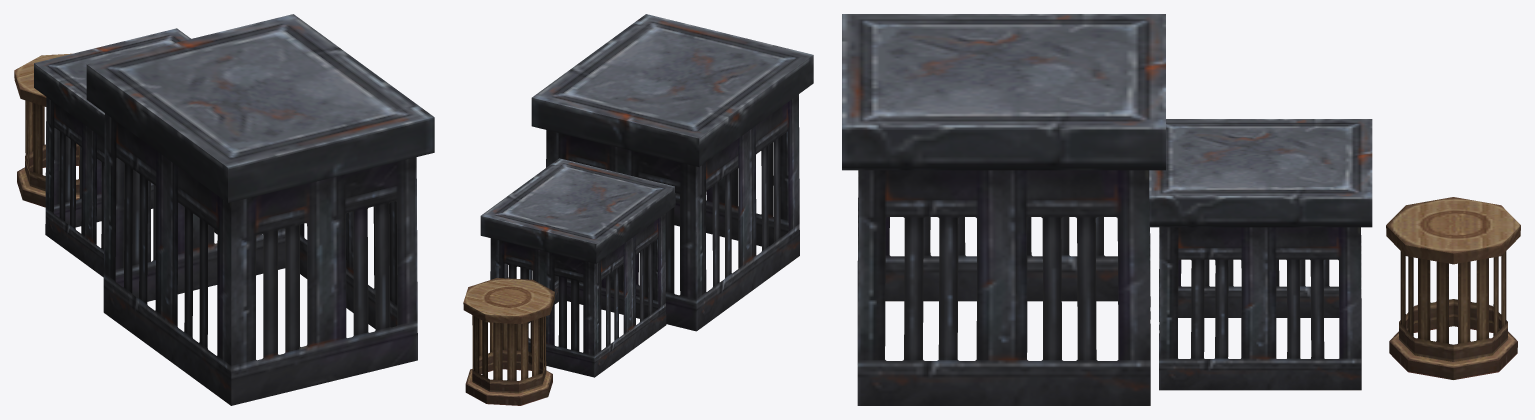
3 views of the same model, side by side, from view 1: azimuth 30°, elevation 25°; view 2: azimuth 150°, elevation 25°; view 3: azimuth 270°, elevation 25° (orthographic). The views are drawn at different scales.
Visible parts, largest first — view 1: Object004; view 2: Object004; view 3: Object004.
Boxes of the visible parts, x1,y1,x2,y2 form: Object004: (14, 14, 434, 405); Object004: (463, 14, 813, 405); Object004: (842, 14, 1520, 405).
Size of the model in its own units: 66.4 by 75.38 by 165.
1 material, 1 textured.
